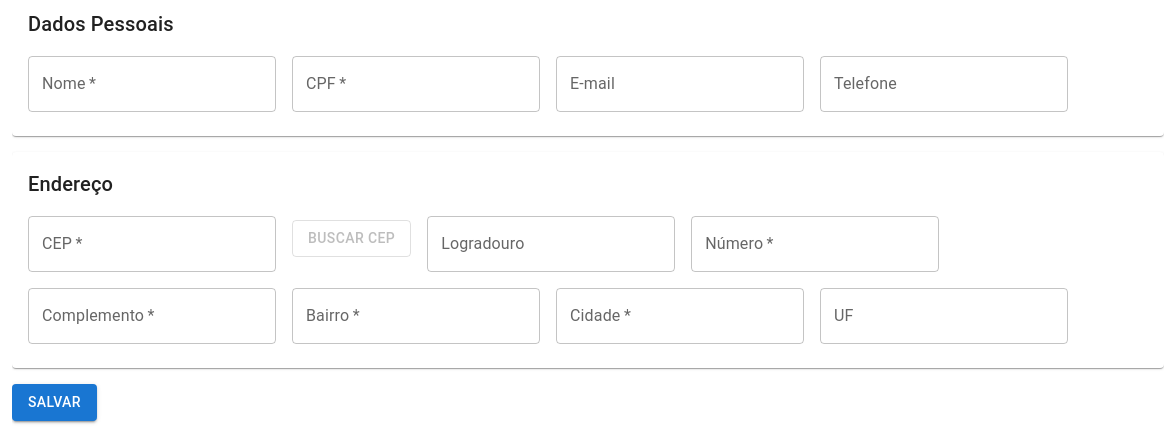
CEP lookup › fills address fields when CEP is found
Type "80000000" into the field labelled "CEP *".
click(152, 244); type("80000000")  # box [28, 216, 276, 272]
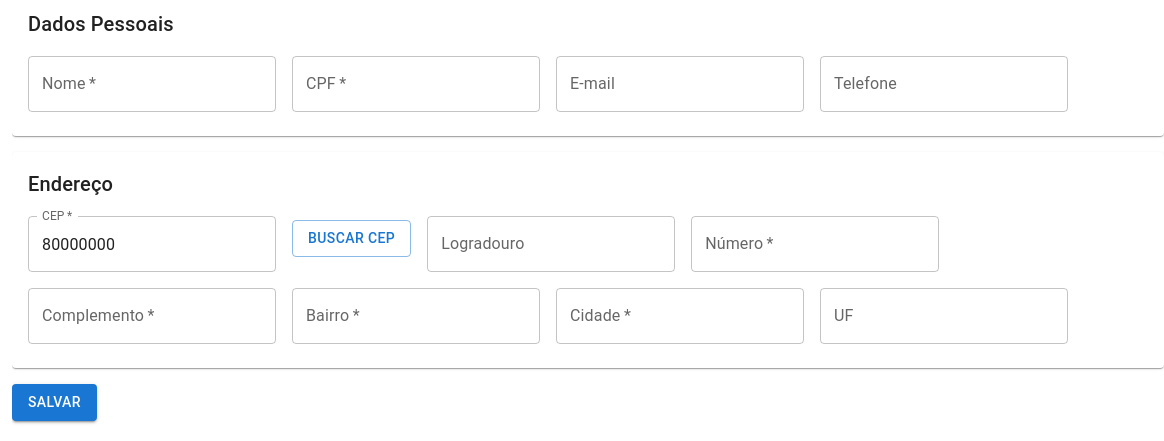
Click the button "Buscar CEP".
click(352, 238)  # box [292, 220, 411, 256]
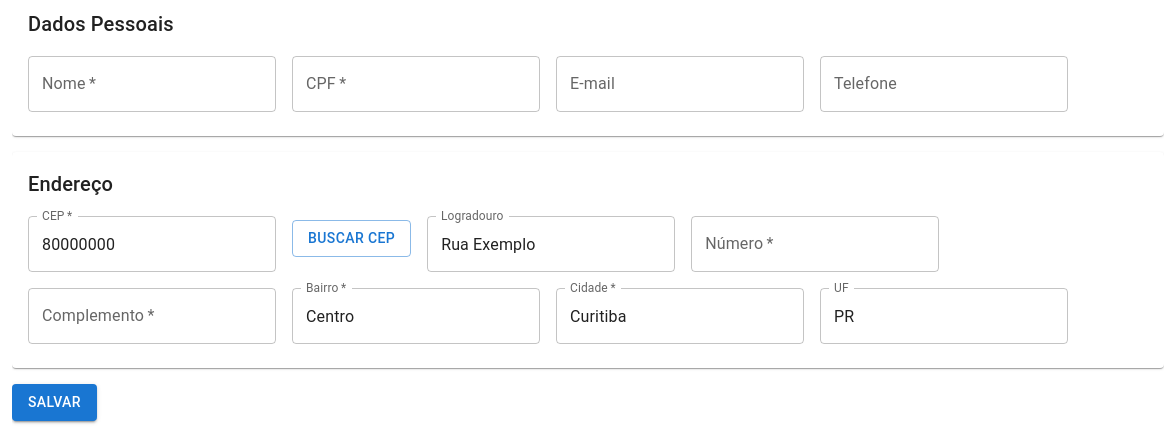
Result: the field labelled "Logradouro" holds "Rua Exemplo" at [427, 216, 675, 272]
Result: the field labelled "UF" holds "PR" at [820, 288, 1068, 344]
